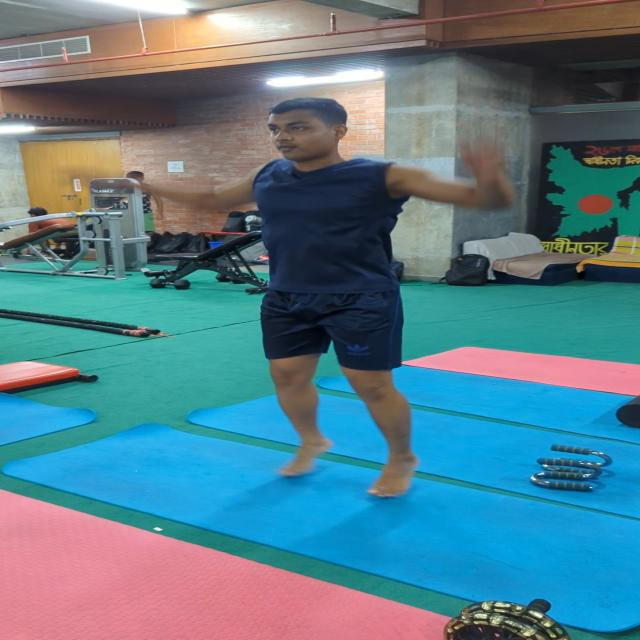Normal_JumpingJacks: (124, 80, 496, 513)
